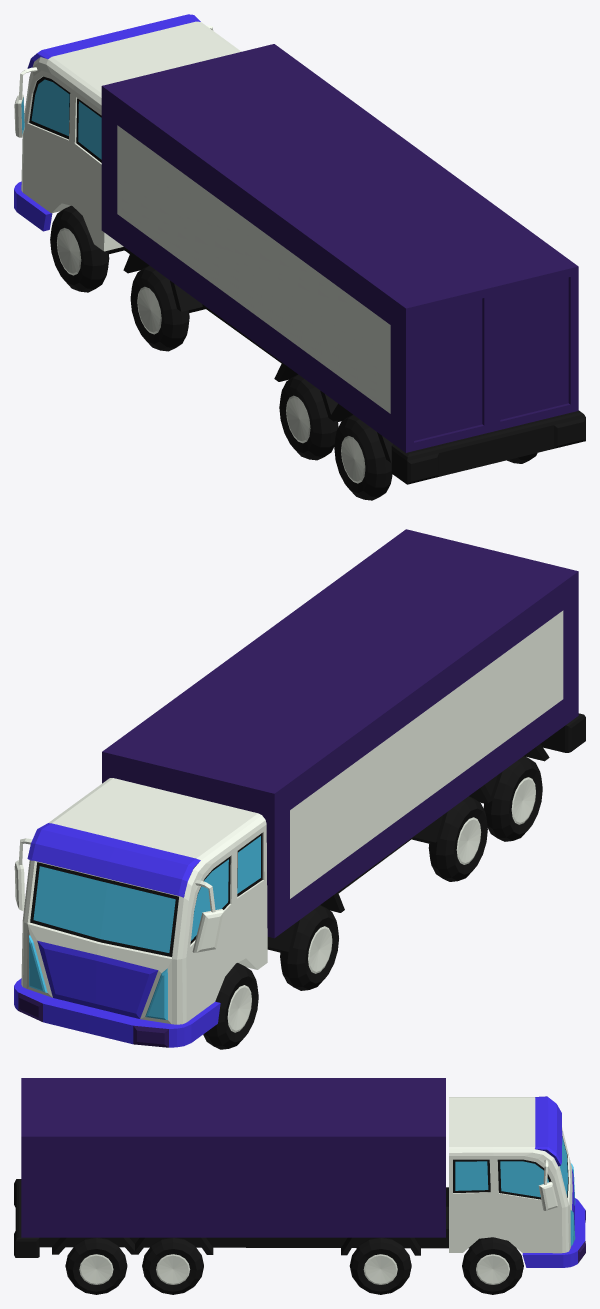
File: Truck01.fbx
3 views of the same model, one above another, from view 1: azimuth 30°, elevation 25°; view 2: azimuth 150°, elevation 25°; view 3: azimuth 270°, elevation 25° (orthographic). The views are drawn at different scales.
Visible parts, largest first — view 1: Truck01; view 2: Truck01; view 3: Truck01.
Part boxes in pixels (x1,y1,x2,y2): Truck01: (14, 14, 585, 500); Truck01: (14, 529, 585, 1049); Truck01: (14, 1078, 585, 1294).
Size of the model in its own units: 312 by 331 by 1065.
